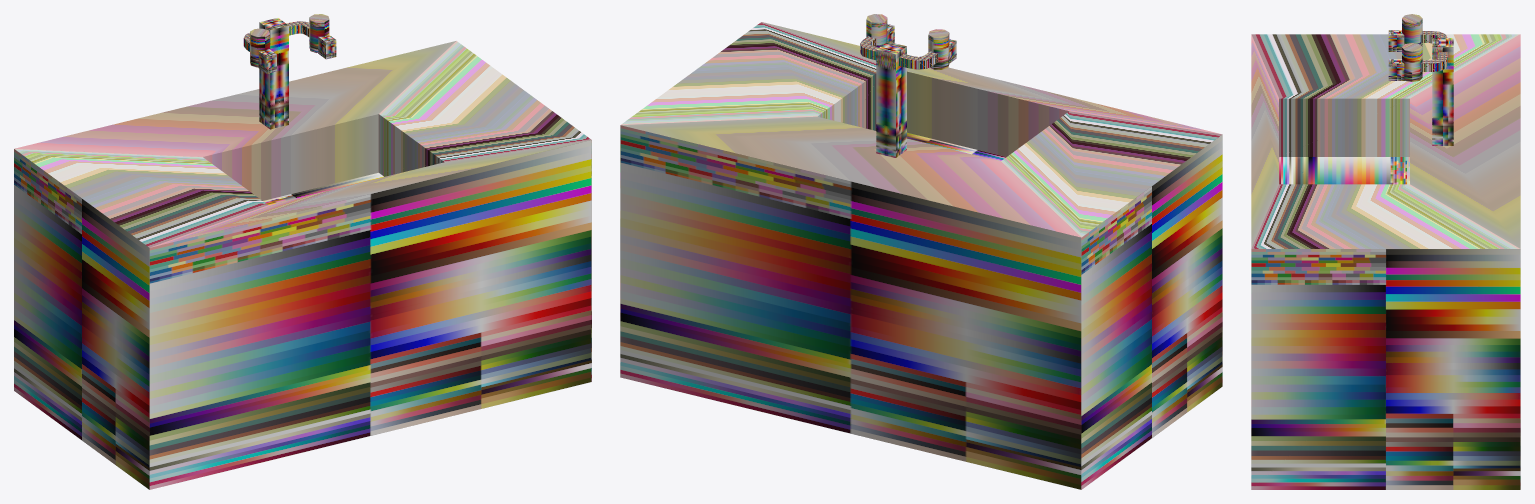
File: CR_sci_Table_002_Collider.FBX
3 views of the same model, side by side, from view 1: azimuth 30°, elevation 25°; view 2: azimuth 150°, elevation 25°; view 3: azimuth 270°, elevation 25° (orthographic). The views are drawn at different scales.
Parts seen in each view (by area): view 1: CR_sci_Table_002_Collider; view 2: CR_sci_Table_002_Collider; view 3: CR_sci_Table_002_Collider.
Boxes of the visible parts, bbox=[...] form: CR_sci_Table_002_Collider: bbox=[14, 14, 591, 489]; CR_sci_Table_002_Collider: bbox=[620, 14, 1222, 489]; CR_sci_Table_002_Collider: bbox=[1251, 14, 1520, 489].
Size of the model in its own units: 115 by 87.41 by 61.07.
